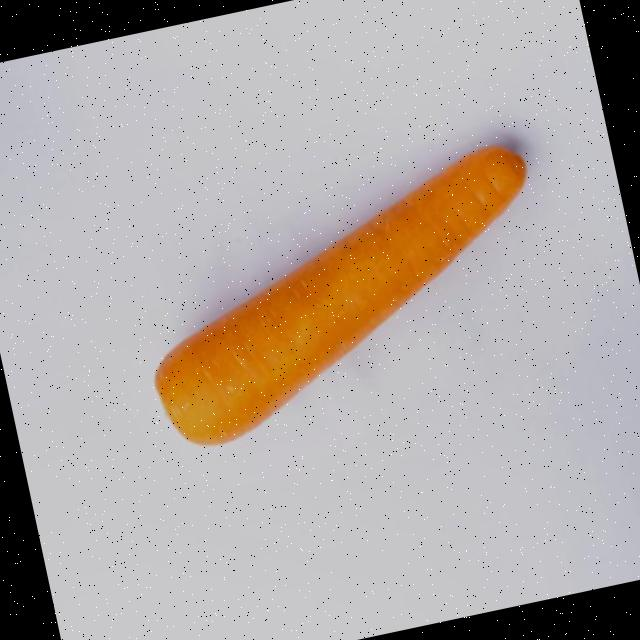carrot: (154, 145, 524, 444)
